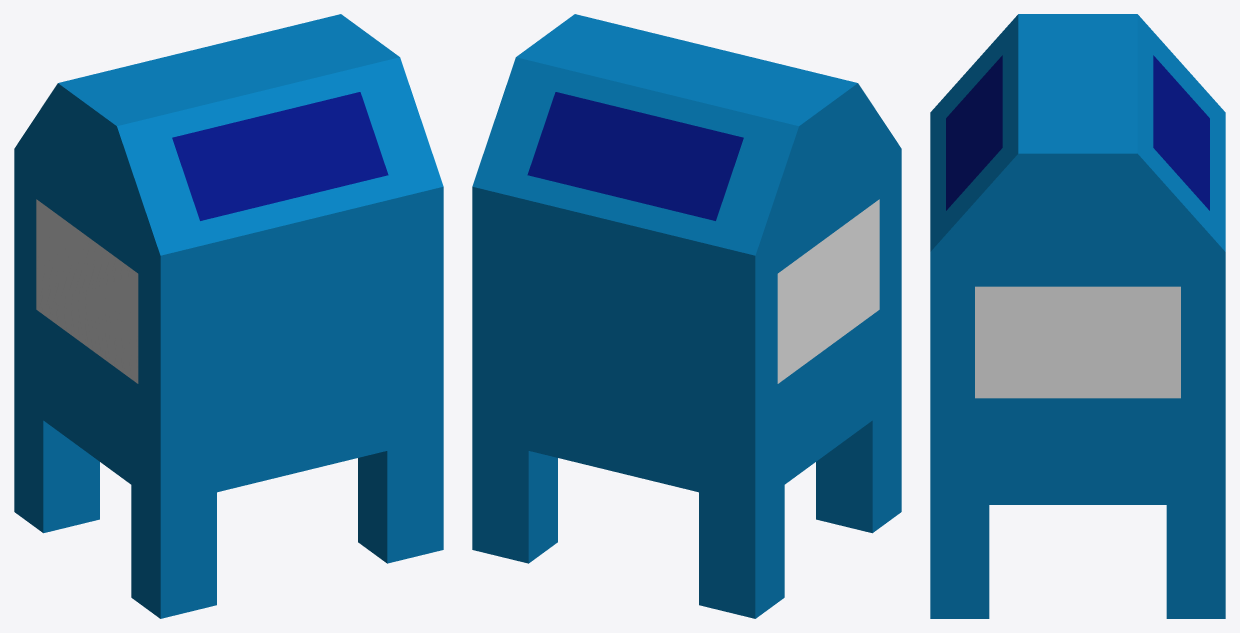
The model's file is MailBox.fbx.
The picture shows the model from 3 angles, left to right: view 1: azimuth 30°, elevation 25°; view 2: azimuth 150°, elevation 25°; view 3: azimuth 270°, elevation 25°; orthographic projection.
Visible parts, largest first — view 1: SM_Prop_MailBox_01; view 2: SM_Prop_MailBox_01; view 3: SM_Prop_MailBox_01.
Part boxes in pixels (left/top/right/bottom): SM_Prop_MailBox_01: left=14, top=14, right=443, bottom=618; SM_Prop_MailBox_01: left=472, top=14, right=901, bottom=618; SM_Prop_MailBox_01: left=930, top=14, right=1225, bottom=618.
Bounding box in the file's own units: 24.1 × 37.47 × 21.54.
